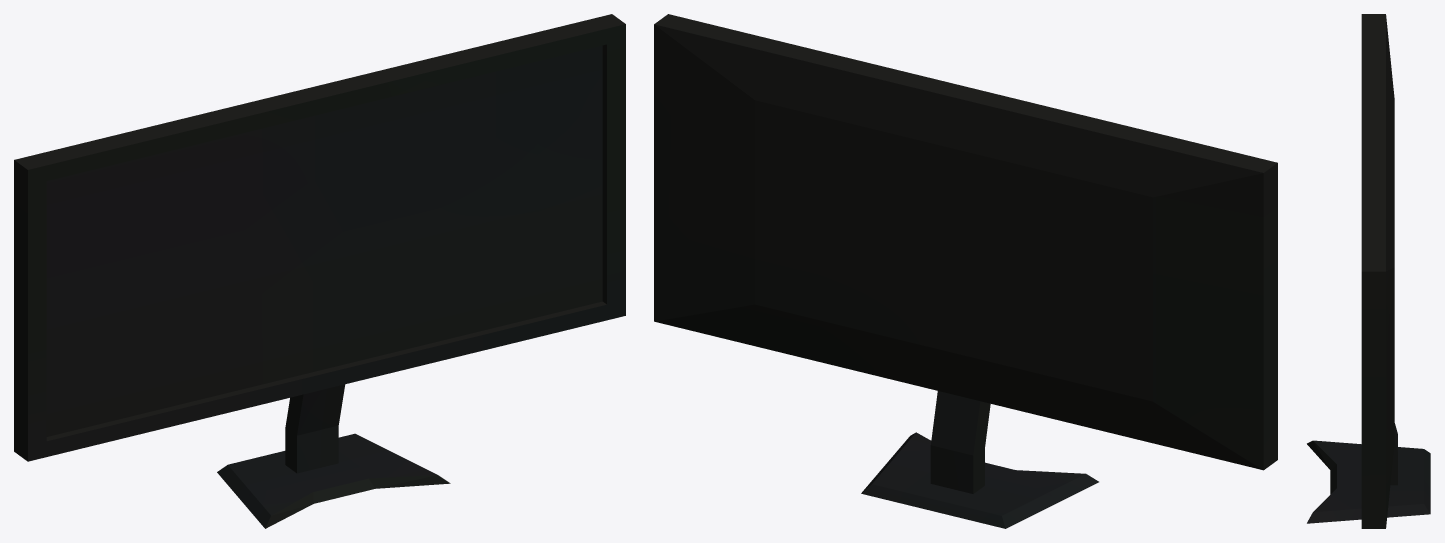
Rendered from monitor.glb.
3 renders of one model, left to right at view 1: azimuth 30°, elevation 25°; view 2: azimuth 150°, elevation 25°; view 3: azimuth 270°, elevation 25°, orthographic. The views are drawn at different scales.
Parts seen in each view (by area): view 1: Monitor; view 2: Monitor; view 3: Monitor.
Part boxes in pixels (bbox=[...]): Monitor: bbox=[14, 14, 625, 528]; Monitor: bbox=[654, 14, 1277, 528]; Monitor: bbox=[1307, 14, 1430, 528].
Bounding box in the file's own units: 0.6 × 0.3704 × 0.1221.
Materials: 1 (1 with a texture image).
